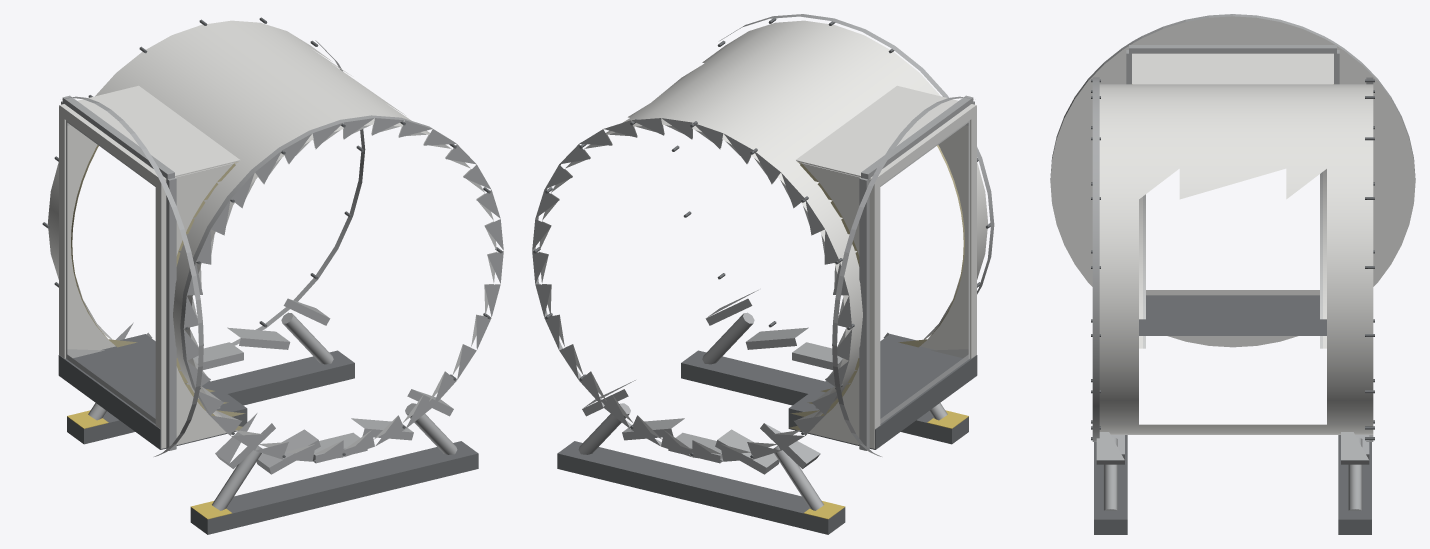
File: habWindowJL_steel.glb
3 renders of one model, left to right at view 1: azimuth 30°, elevation 25°; view 2: azimuth 150°, elevation 25°; view 3: azimuth 270°, elevation 25°, orthographic.
Parts seen in each view (by area): view 1: habWindowJL_steel; view 2: habWindowJL_steel; view 3: habWindowJL_steel.
Boxes of the visible parts, x1=… form: habWindowJL_steel: x1=42, y1=17, x2=503, y2=534; habWindowJL_steel: x1=532, y1=14, x2=994, y2=534; habWindowJL_steel: x1=1050, y1=14, x2=1415, y2=534.
Bounding box in the file's own units: 2.65 × 2.95 × 2.6.
